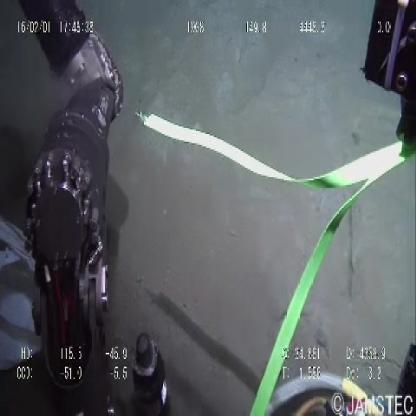Rov: (18, 1, 168, 413)
